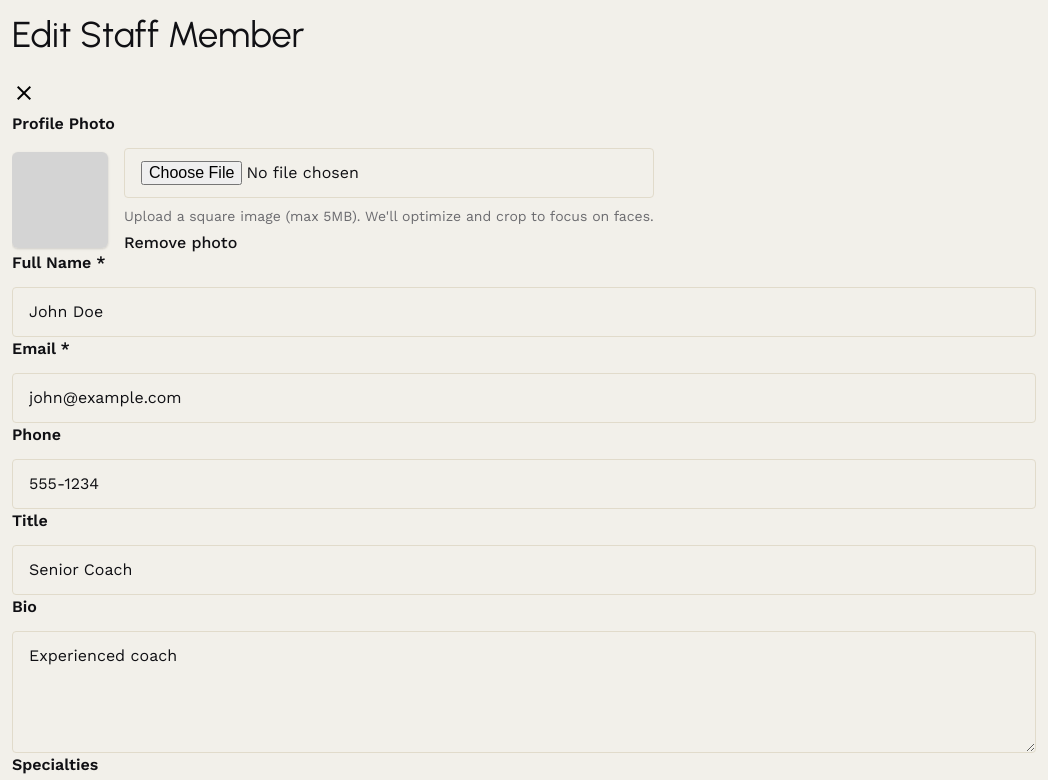
StaffEditModal › Photo Upload › removes photo when remove button is clicked
The width and height of the screenshot is (1048, 780).
Note: Click remove button
Click the button "Remove photo" at coordinates (181, 243), box [124,235,237,251]
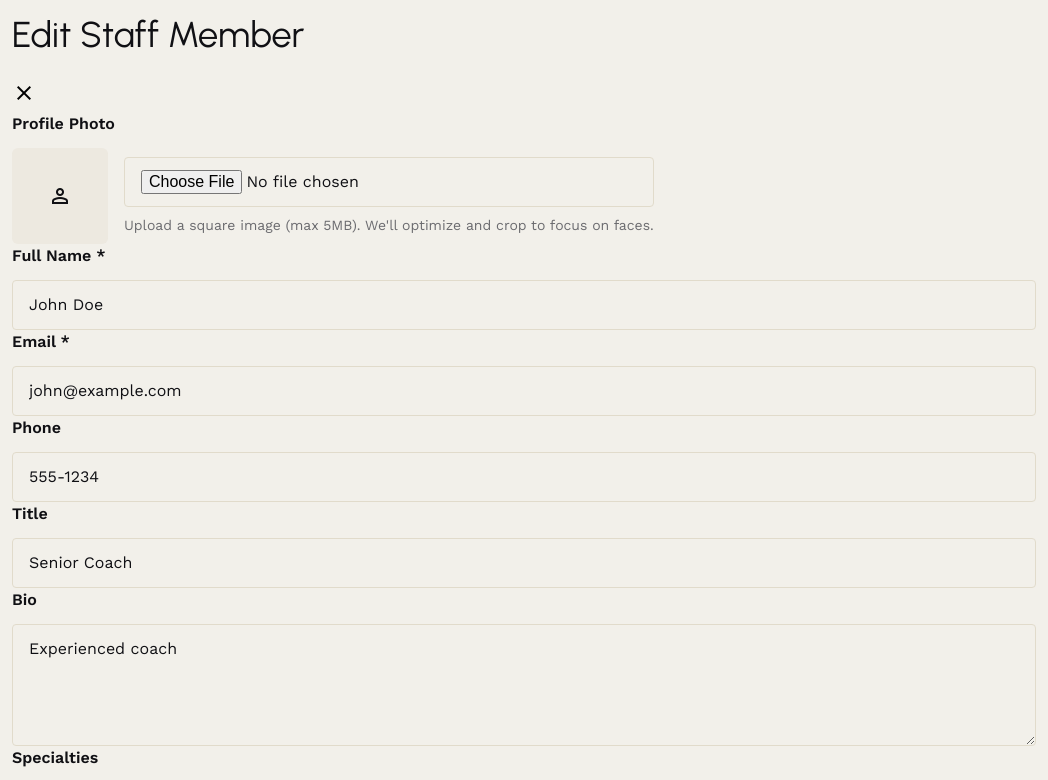
expect the text "person" below "Profile Photo" is shown: met, box [48,182,72,210]
